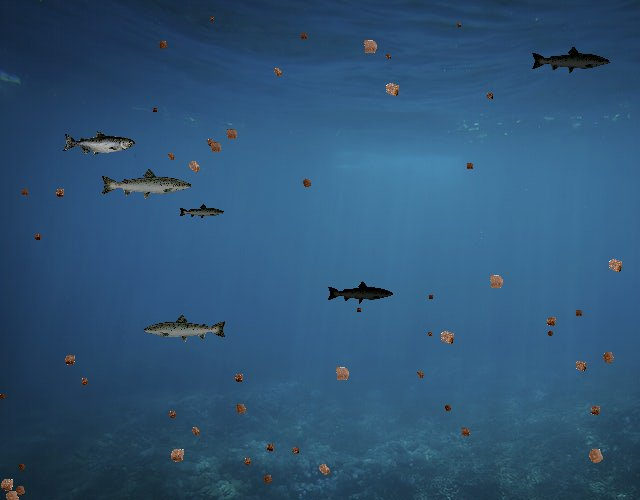Fish: (99, 168, 193, 201), (142, 313, 228, 344), (530, 46, 611, 75), (63, 130, 136, 156), (326, 280, 394, 305), (178, 204, 225, 221)
Pellet: (163, 441, 191, 469), (182, 154, 207, 179), (312, 457, 336, 481), (10, 480, 31, 500), (163, 149, 180, 166), (76, 374, 92, 390), (482, 89, 497, 103), (544, 327, 557, 340), (206, 13, 216, 24)
